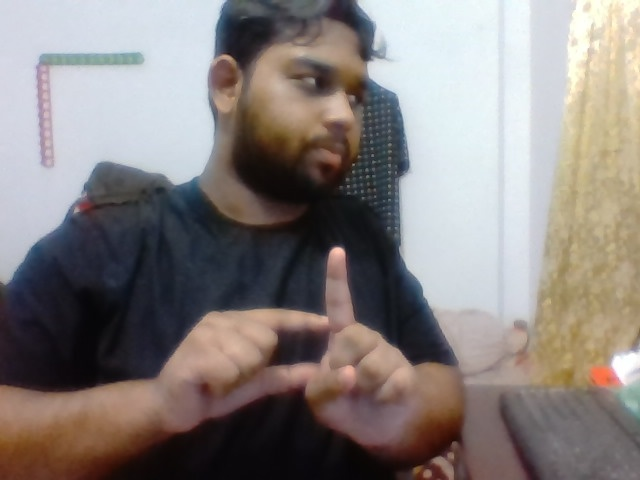D: (159, 232, 434, 445)
